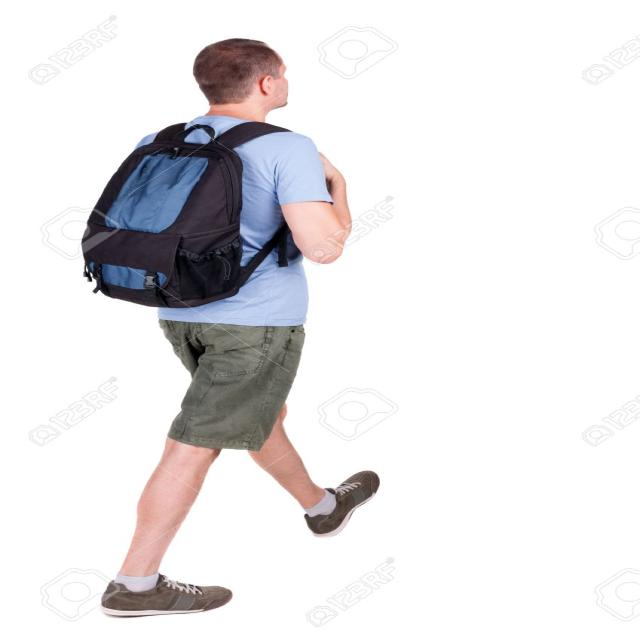backpack: (81, 121, 300, 310)
